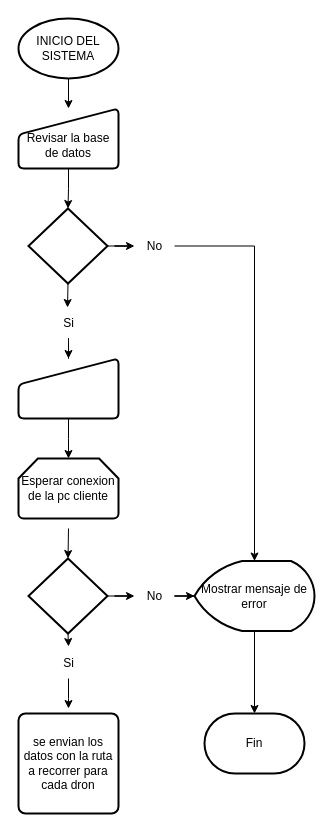
The diagram is 332 pixels wide and 831 high, and some of its shapes have lost their labels. The box of each missing label's shape, as (x1, y1, x2, y2) in pixels:
Conexion establecida: (27, 557, 108, 634)
Iniciar servidor de IA: (17, 357, 119, 419)
¿Funciona?: (27, 207, 108, 284)
